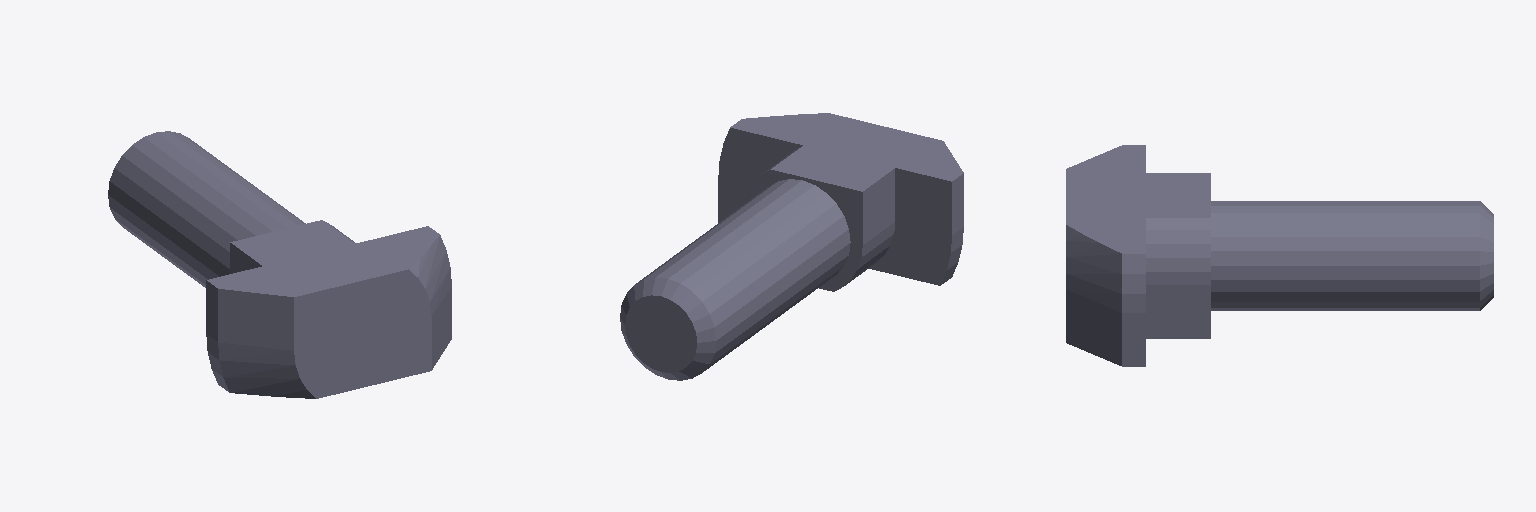
Rendered from T-BOLT-M8X25.obj.
3 views of the same model, side by side, from view 1: azimuth 30°, elevation 25°; view 2: azimuth 150°, elevation 25°; view 3: azimuth 270°, elevation 25° (orthographic).
Visible parts, largest first — view 1: bosch_[number redacted]_bnncydg3beruux3pmky8iouvu-1; view 2: bosch_[number redacted]_bnncydg3beruux3pmky8iouvu-1; view 3: bosch_[number redacted]_bnncydg3beruux3pmky8iouvu-1.
Part boxes in pixels (bbox=[...]): bosch_[number redacted]_bnncydg3beruux3pmky8iouvu-1: bbox=[108, 131, 451, 398]; bosch_[number redacted]_bnncydg3beruux3pmky8iouvu-1: bbox=[620, 113, 963, 380]; bosch_[number redacted]_bnncydg3beruux3pmky8iouvu-1: bbox=[1066, 145, 1493, 366].
Bounding box in the file's own units: 19.4 × 8.5 × 30.7.